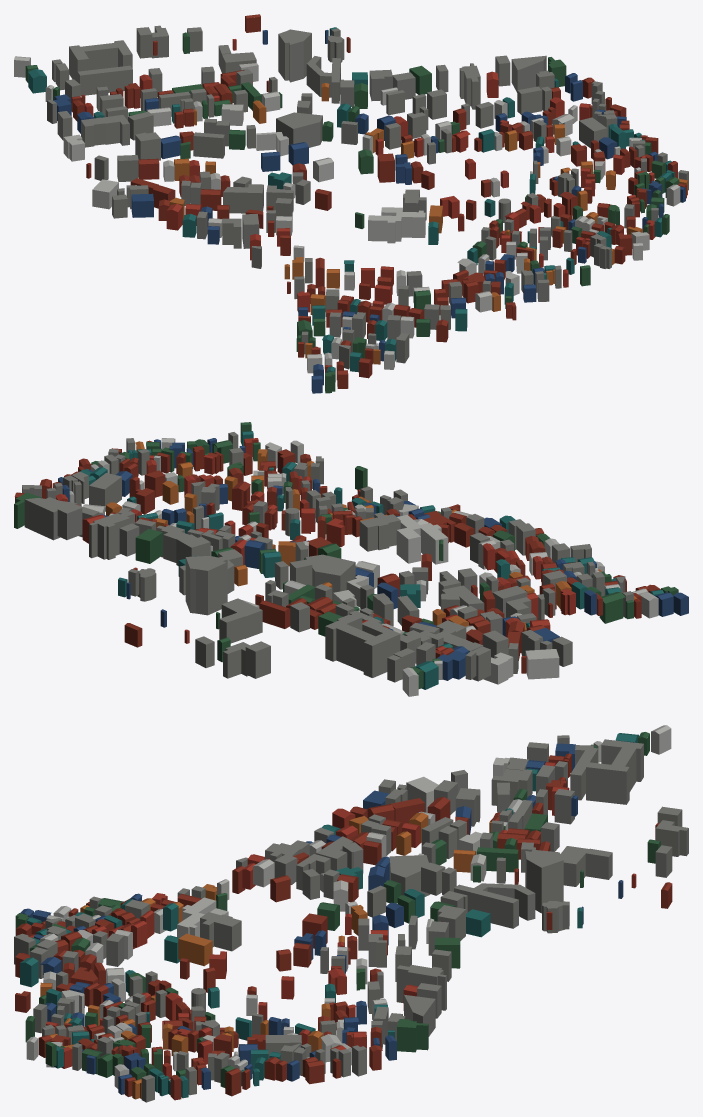
File: near-16-54723-29740.a3fe573f.glb
3 renders of one model, top to bottom at view 1: azimuth 30°, elevation 25°; view 2: azimuth 150°, elevation 25°; view 3: azimuth 270°, elevation 25°, orthographic. The views are drawn at different scales.
Bounding box in the file's own units: 608 × 188 × 603.
